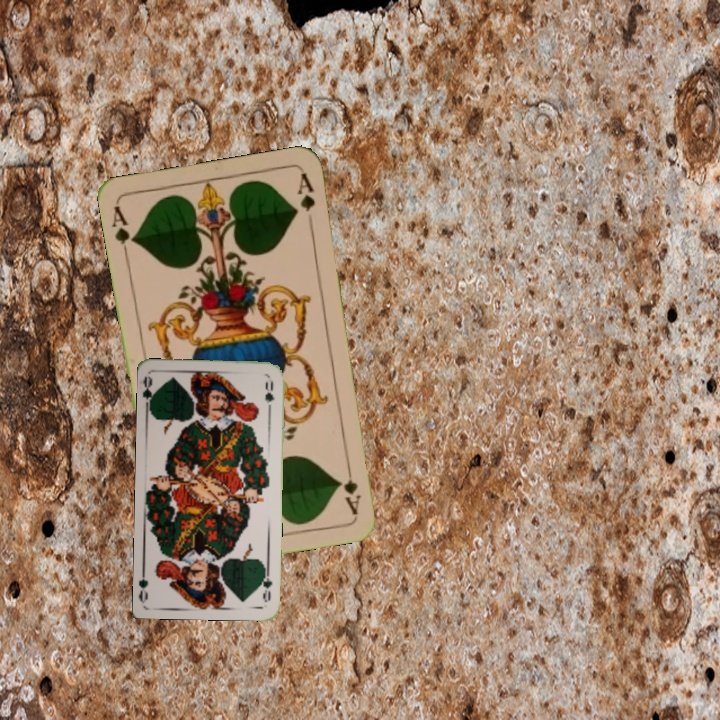GA: (108, 201, 139, 260), (341, 457, 363, 516)
GO: (140, 373, 159, 414), (257, 564, 275, 605)
